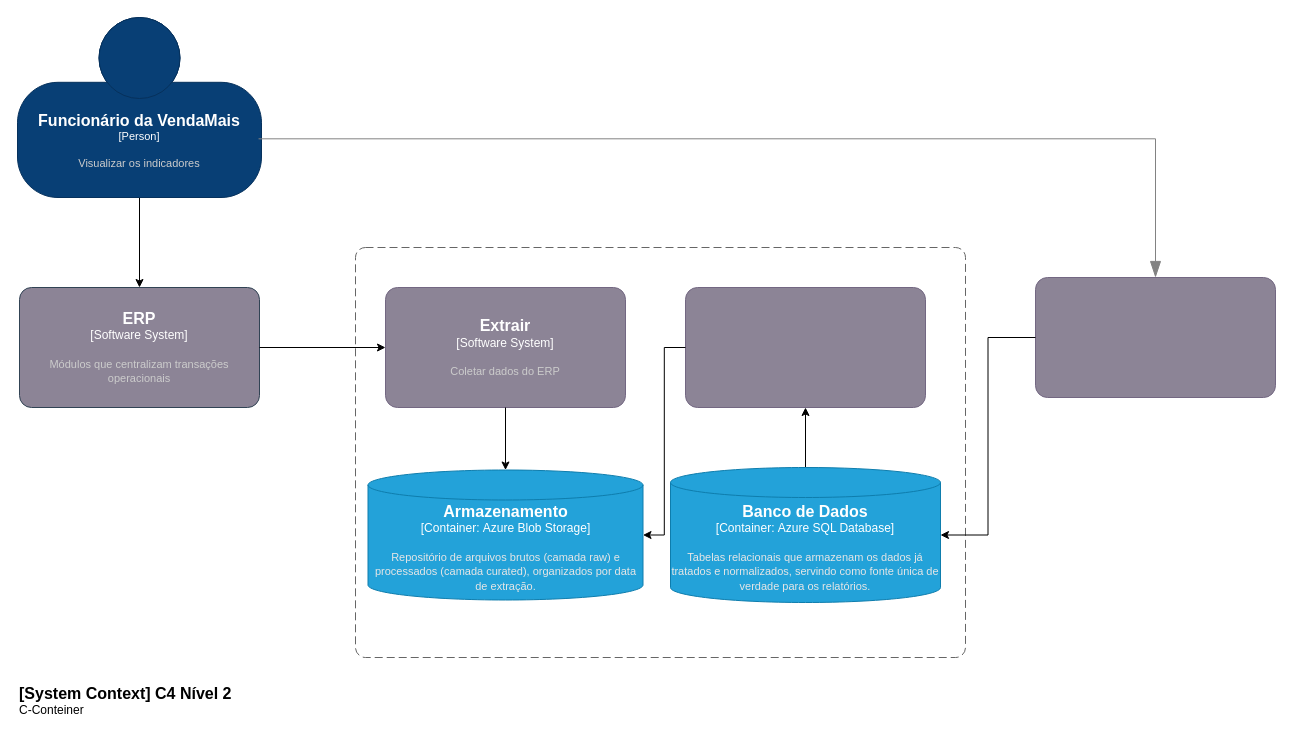
Some shapes in this 1293 by 736 pixel diagram are drawn without their labels. Here are the shapes that lost their labels. From the top down, the box of each, then its label:
(684, 286, 926, 408): Transformar [Software System] Refinar dados armazenados
(1034, 276, 1276, 398): Power BI [Software System] Fornecer Dashboards com atualização automática diária
(354, 246, 966, 658): Plataforma Analítica [Container]
